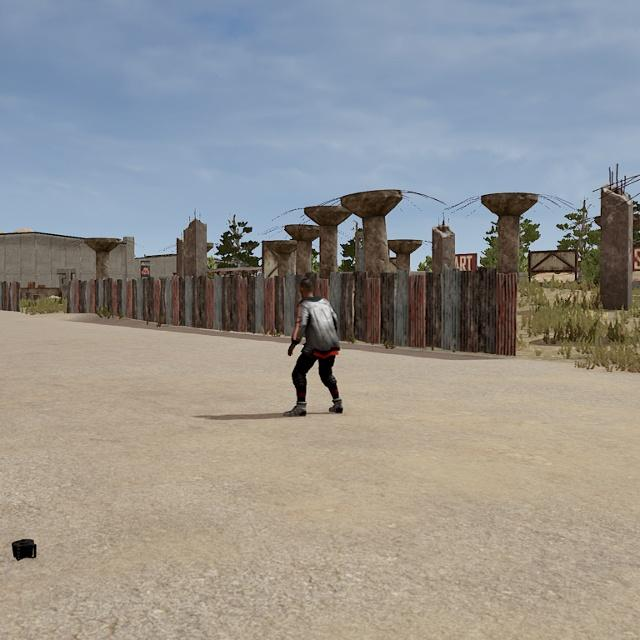head: (298, 277, 316, 298)
people: (282, 276, 346, 417)
